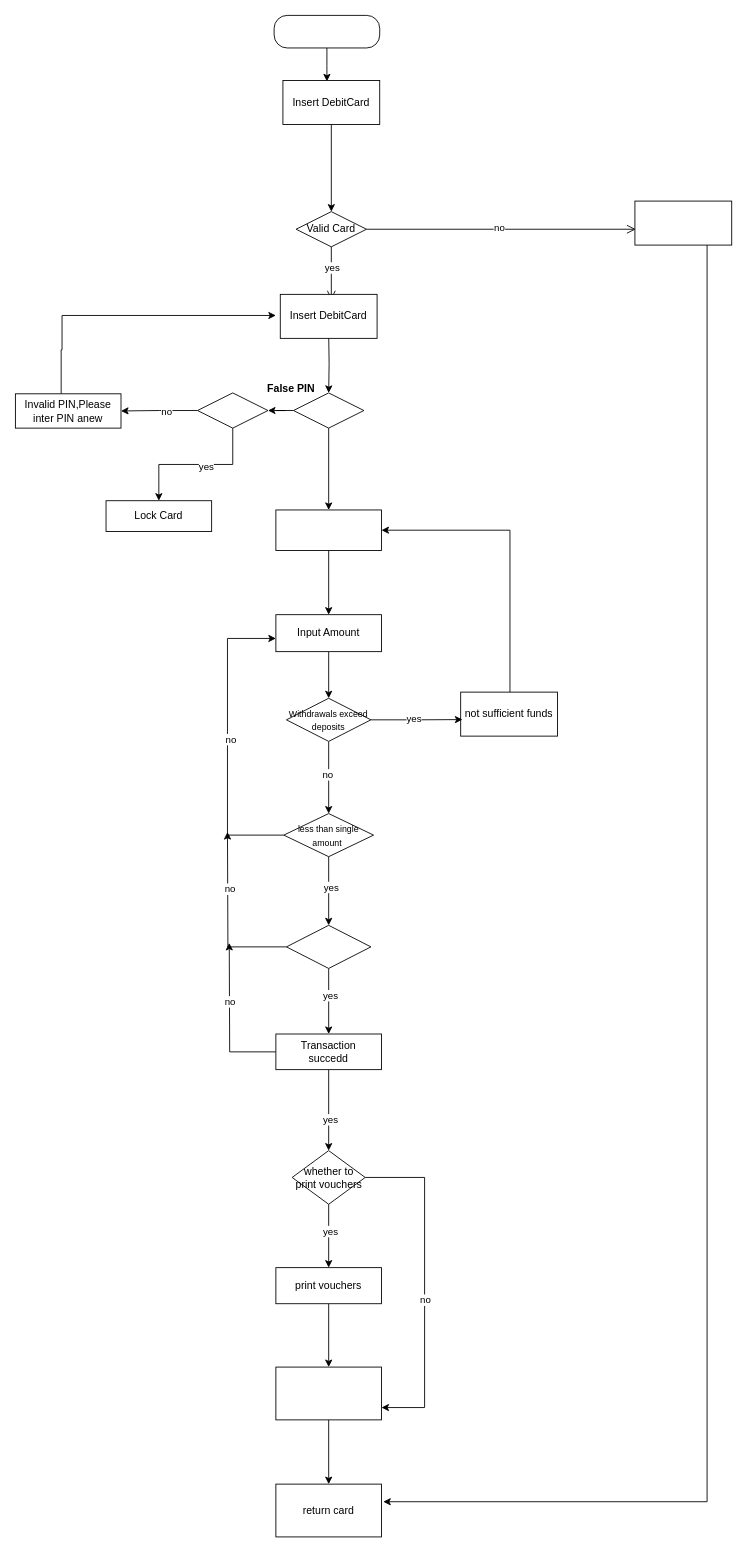
This 747x1552 diagram has some shape labels left out. The centre of each missing label's shape, as x and y in pixels:
"ATM has sufficient funds to provide" belongs at pixel 328 946.
"begin" belongs at pixel 326 31.
"Card Not available" belongs at pixel 683 222.
"chose Transaction" belongs at pixel 328 529.
"More than 3 times" belongs at pixel 232 410.
"valid PIN" belongs at pixel 328 410.
"withdraw Transaction ends" belongs at pixel 328 1393.
